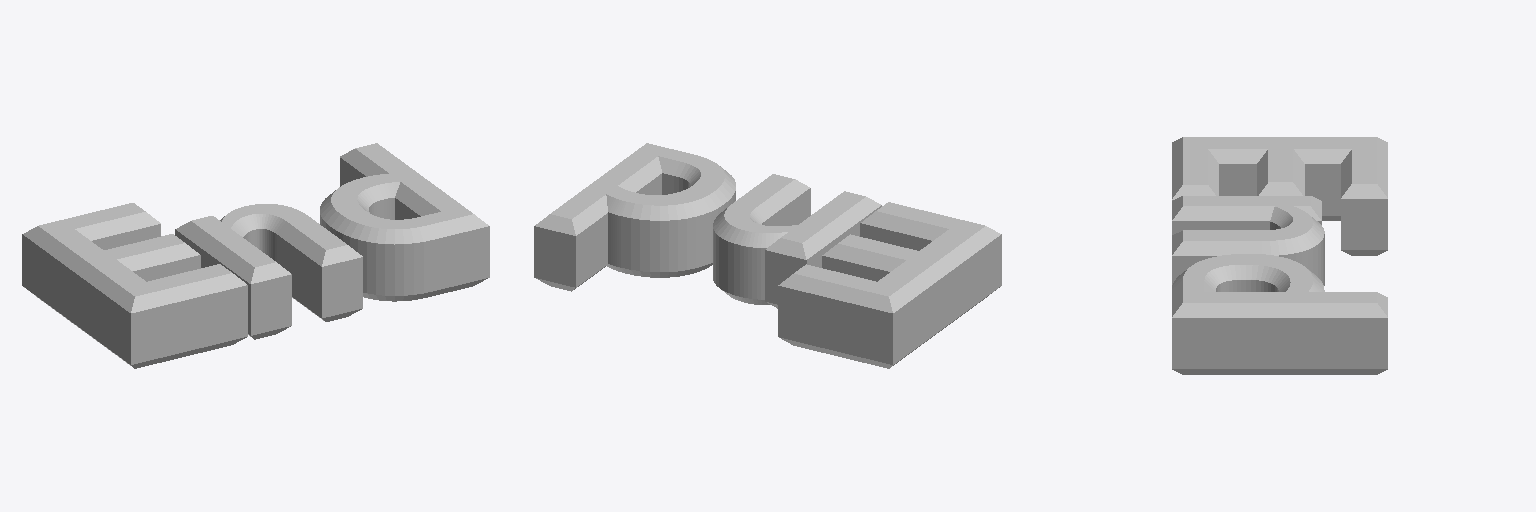
The model's file is end.obj.
3 views of the same model, side by side, from view 1: azimuth 30°, elevation 25°; view 2: azimuth 150°, elevation 25°; view 3: azimuth 270°, elevation 25° (orthographic).
Visible parts, largest first — view 1: 文本; view 2: 文本; view 3: 文本.
Part boxes in pixels (x1,y1,x2,y2): 文本: (22,143,489,368); 文本: (534,143,1001,368); 文本: (1172,137,1387,374).
Size of the model in its own units: 3.87 by 0.7442 by 2.03.